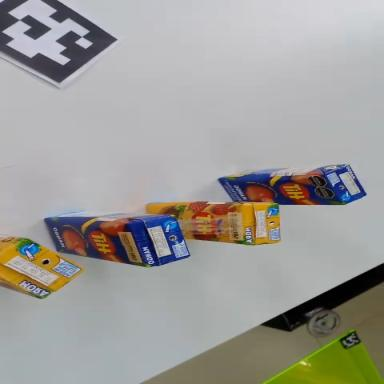HIT-MANGO: (45, 213, 190, 268), (219, 163, 366, 215)
HIT-MORA: (0, 235, 86, 304), (147, 202, 280, 246)
cara_F: (42, 220, 147, 268), (217, 174, 345, 206), (146, 204, 243, 244), (0, 278, 44, 299)
